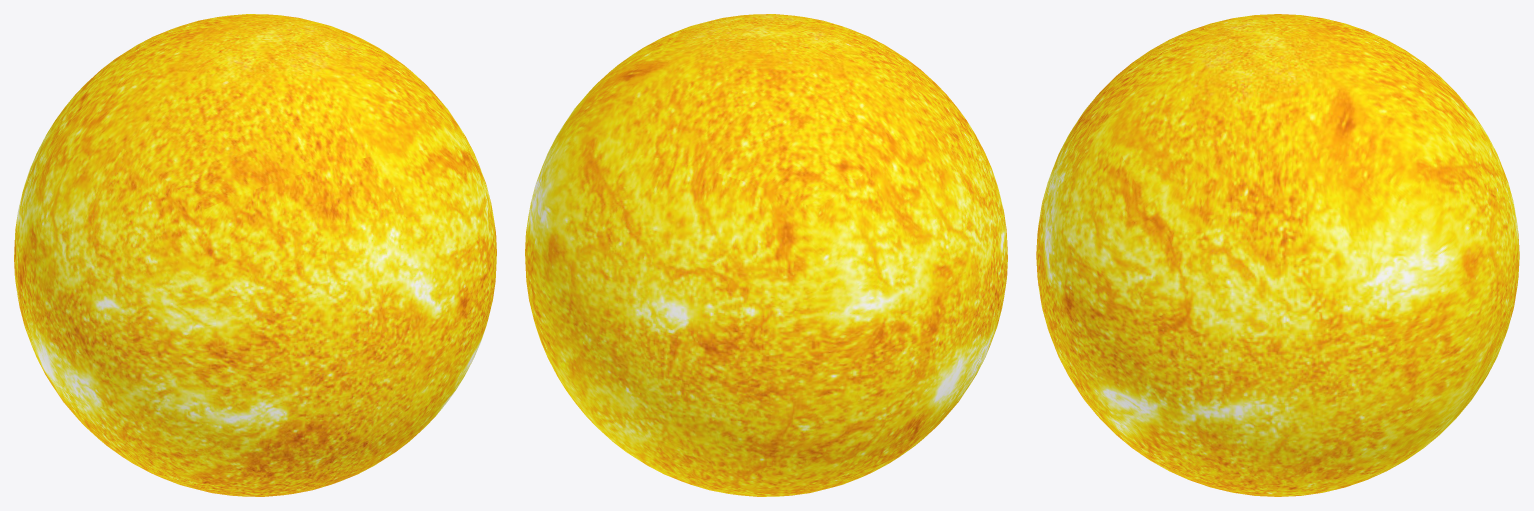
File: nasa-sun.glb
3 renders of one model, left to right at view 1: azimuth 30°, elevation 25°; view 2: azimuth 150°, elevation 25°; view 3: azimuth 270°, elevation 25°, orthographic.
Visible parts, largest first — view 1: Cube.001; view 2: Cube.001; view 3: Cube.001.
Boxes of the visible parts, box(x1,y1,x2,y2) form: Cube.001: box(14, 14, 496, 496); Cube.001: box(525, 14, 1007, 496); Cube.001: box(1036, 14, 1519, 496).
Size of the model in its own units: 2 by 2 by 2.
1 material, 1 textured.
